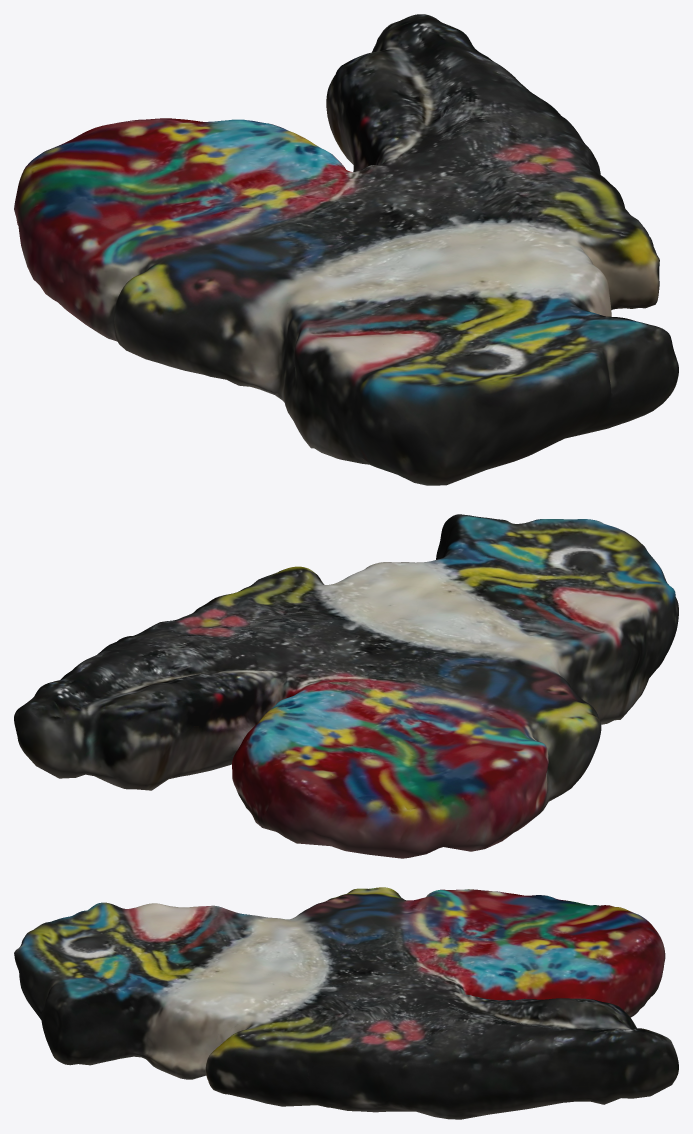
3 views of the same model, one above another, from view 1: azimuth 30°, elevation 25°; view 2: azimuth 150°, elevation 25°; view 3: azimuth 270°, elevation 25° (orthographic). The views are drawn at different scales.
Bounding box in the file's own units: 0.4888 × 0.1281 × 0.6857.
Materials: 1 (1 with a texture image).
